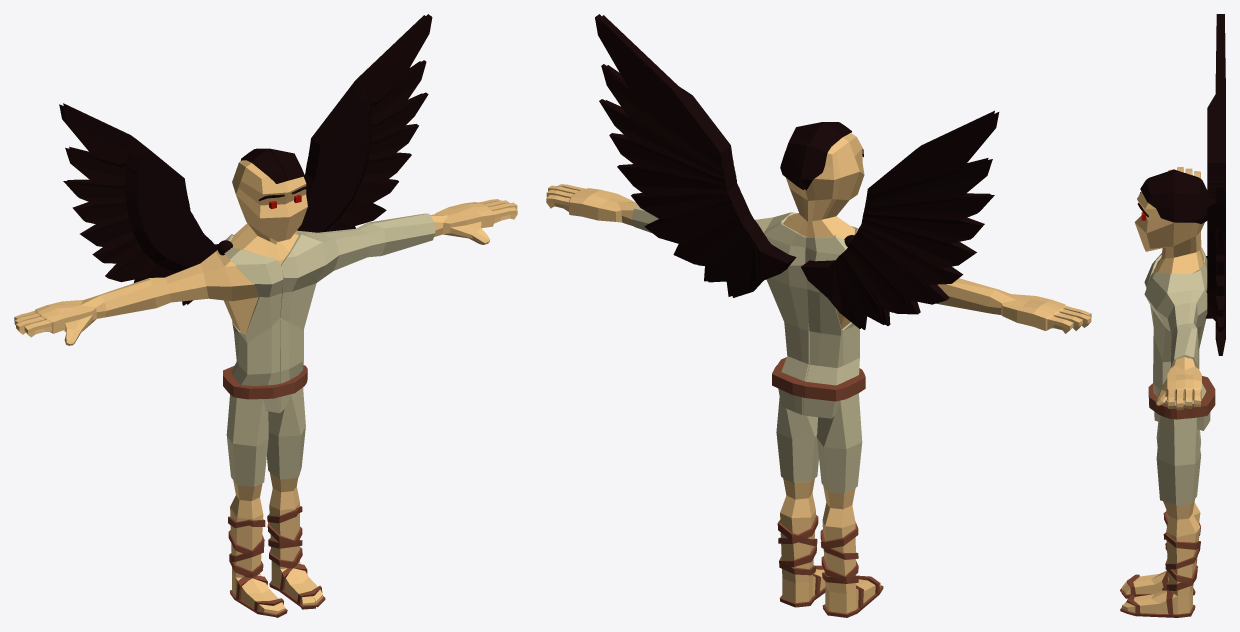
File: Thanatos.fbx
3 views of the same model, side by side, from view 1: azimuth 30°, elevation 25°; view 2: azimuth 150°, elevation 25°; view 3: azimuth 270°, elevation 25° (orthographic). The views are drawn at different scales.
Parts seen in each view (by area): view 1: Cube.001, Cube.007, Cube.004, Cube.003; view 2: Cube.001, Cube.007, Cube.004, Cube.003, Cube.002; view 3: Cube.001, Cube.007, Cube.002, Cube.004.
Part boxes in pixels (box(x1,y1,x2,y2)): Cube.001: box(14, 14, 517, 614); Cube.007: box(217, 213, 435, 486); Cube.004: box(228, 506, 325, 617); Cube.003: box(240, 148, 286, 183); Cube.001: box(546, 14, 1091, 613); Cube.007: box(632, 203, 865, 493); Cube.004: box(777, 515, 883, 617); Cube.003: box(801, 122, 851, 190); Cube.002: box(780, 122, 838, 189); Cube.001: box(1122, 14, 1225, 614); Cube.007: box(1144, 247, 1215, 505); Cube.002: box(1140, 170, 1212, 224); Cube.004: box(1120, 511, 1200, 617).
Size of the model in its own units: 25.42 by 25.14 by 4.82.
